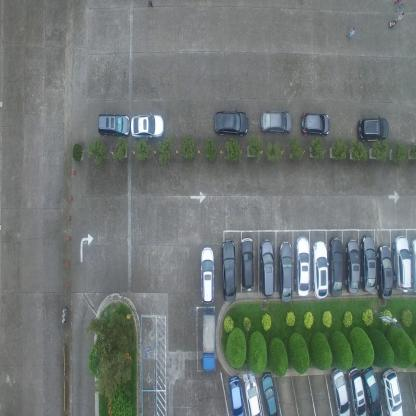car: (393, 233, 412, 293), (381, 367, 404, 415), (220, 240, 237, 302), (361, 364, 381, 416), (330, 366, 351, 415), (211, 109, 249, 136), (199, 245, 216, 305), (312, 239, 329, 299), (201, 310, 217, 372), (347, 366, 367, 415), (258, 237, 274, 298), (278, 239, 293, 304), (130, 113, 166, 140), (296, 235, 310, 299), (260, 109, 294, 135), (346, 236, 361, 293), (362, 231, 376, 292), (98, 113, 132, 138), (239, 237, 254, 293), (330, 236, 344, 296), (378, 244, 393, 300), (300, 111, 330, 139), (358, 116, 388, 141), (262, 371, 278, 415), (227, 374, 244, 415), (244, 378, 262, 415), (410, 237, 416, 292)
